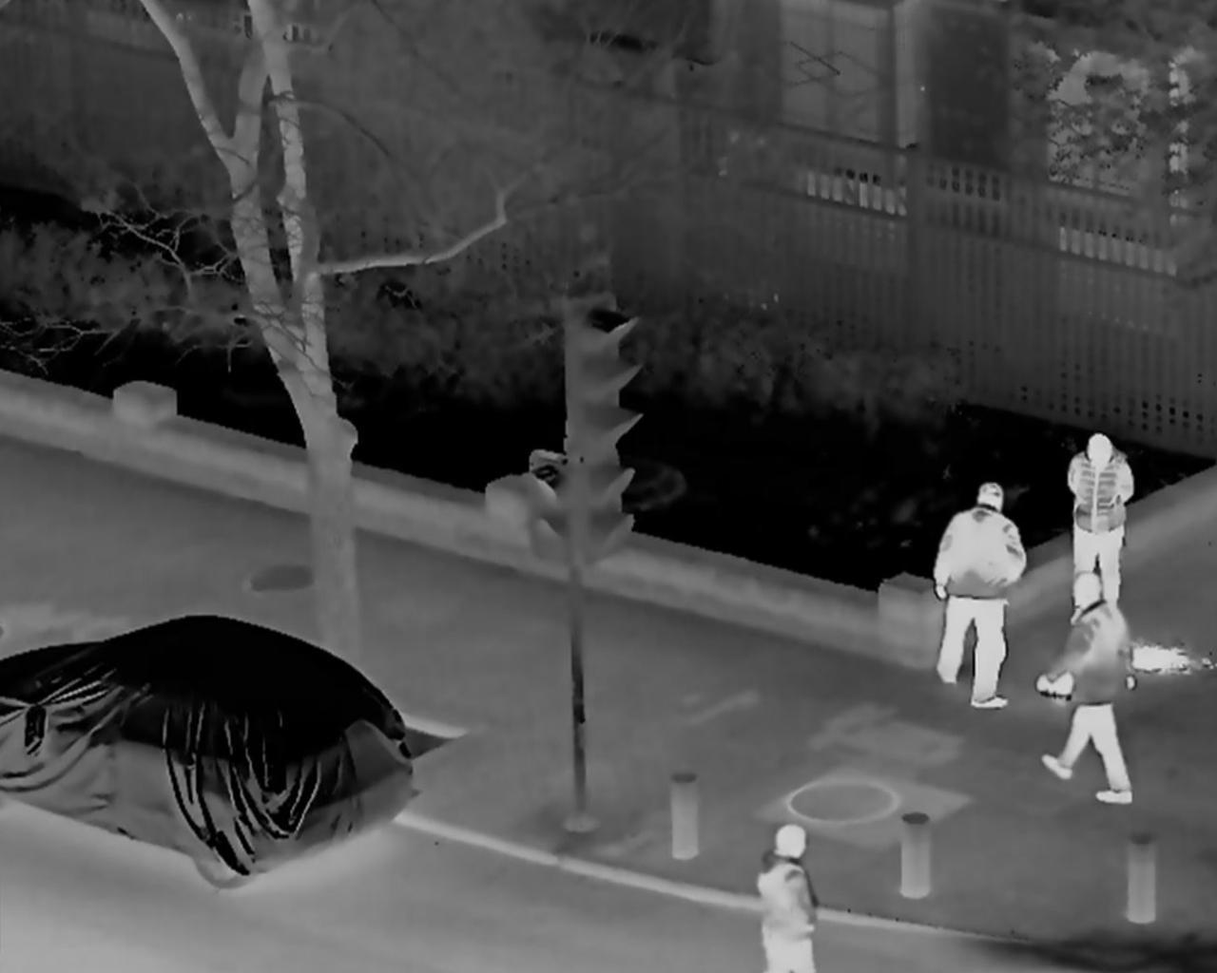person: (929, 476, 1028, 711), (1042, 573, 1137, 809), (1066, 433, 1132, 623), (756, 826, 820, 973)
